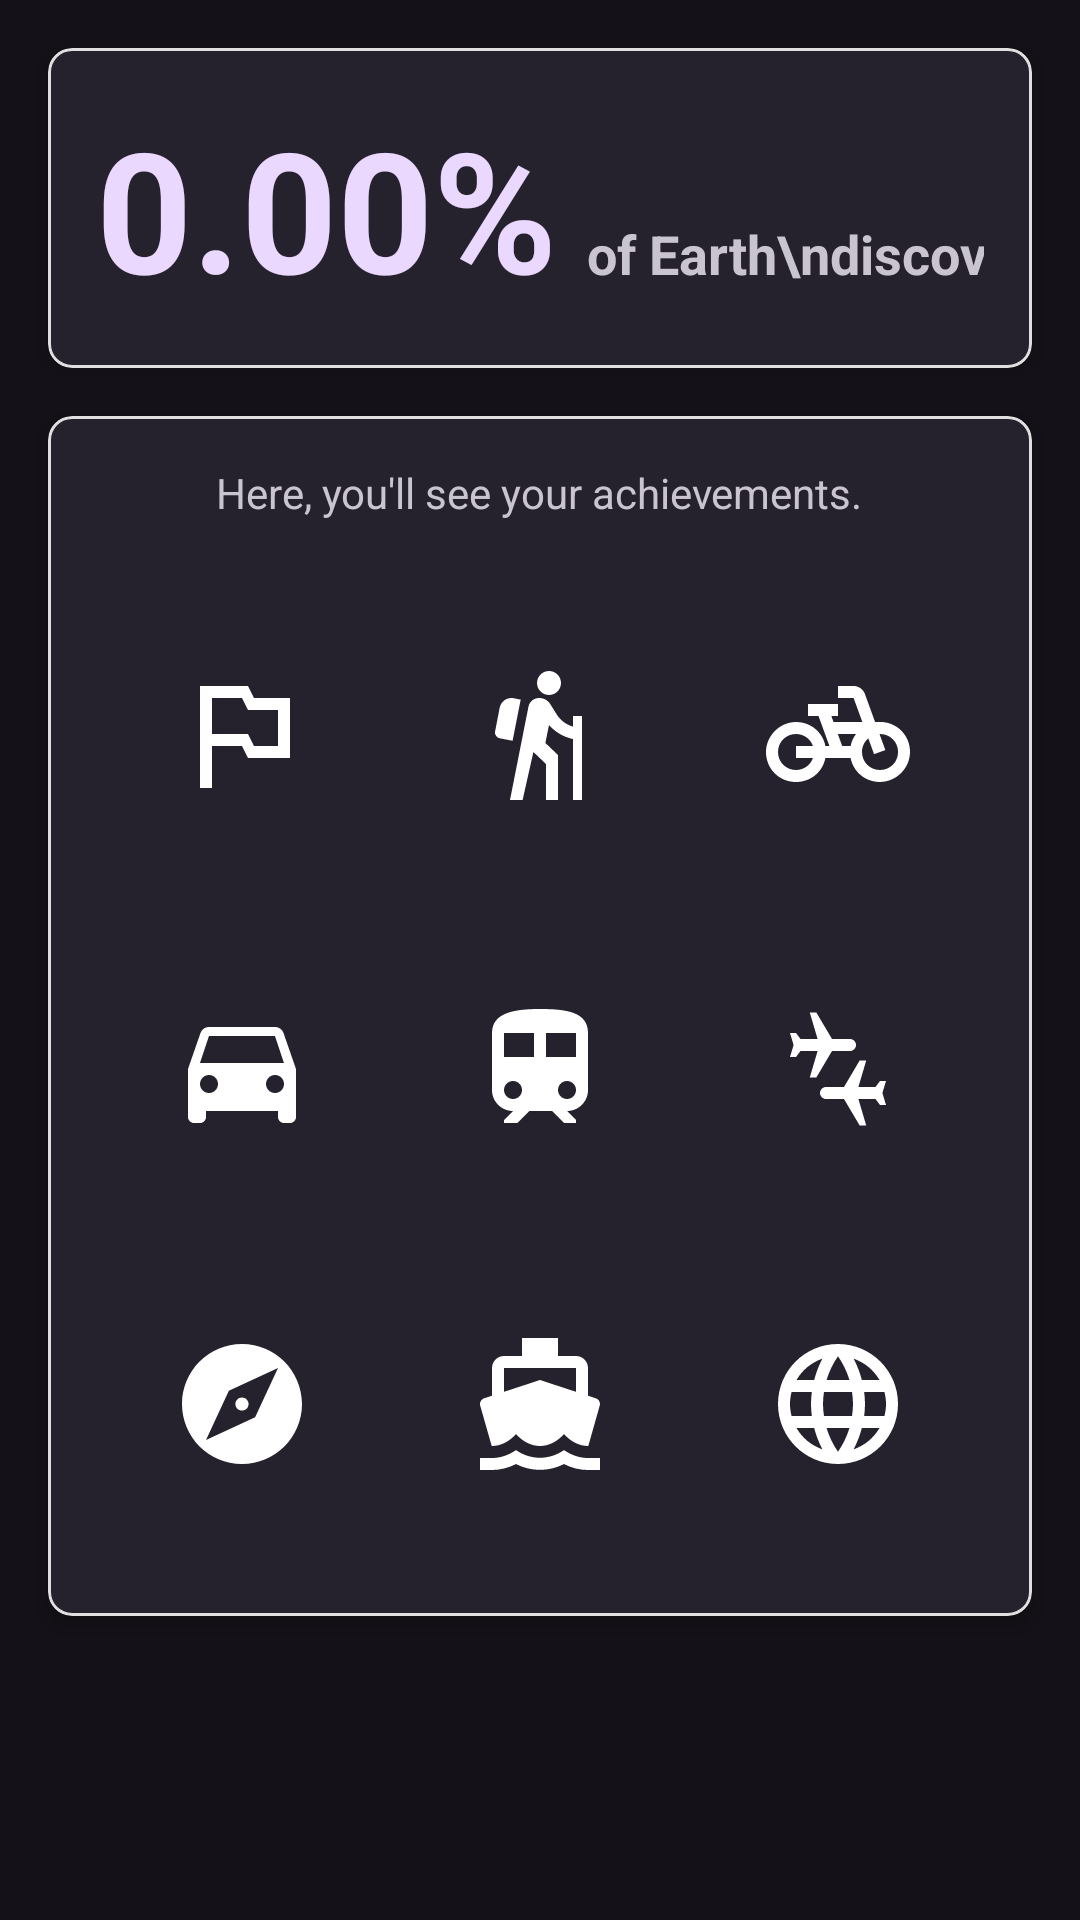

Icon bounding boxes for this 1080w x 1920h phone screenshot, format region(x1, y1, x2, y2):
connecting airports: region(790, 1012, 886, 1126)
directions boat: region(480, 1338, 600, 1470)
directions car: region(188, 1027, 296, 1123)
explore: region(182, 1344, 302, 1464)
flag: region(200, 686, 290, 788)
hiking: region(495, 671, 582, 800)
language: region(778, 1344, 898, 1464)
pedal bike: region(766, 686, 910, 782)
train: region(492, 1009, 588, 1123)
